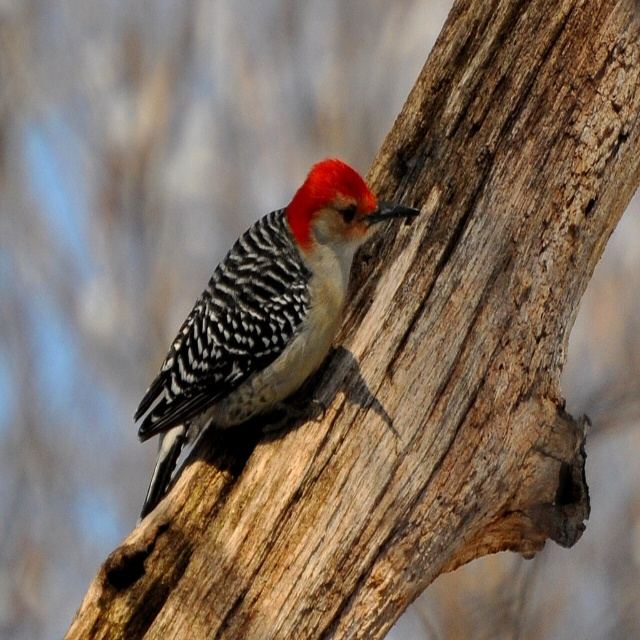Woodpecker: (132, 157, 420, 527)
